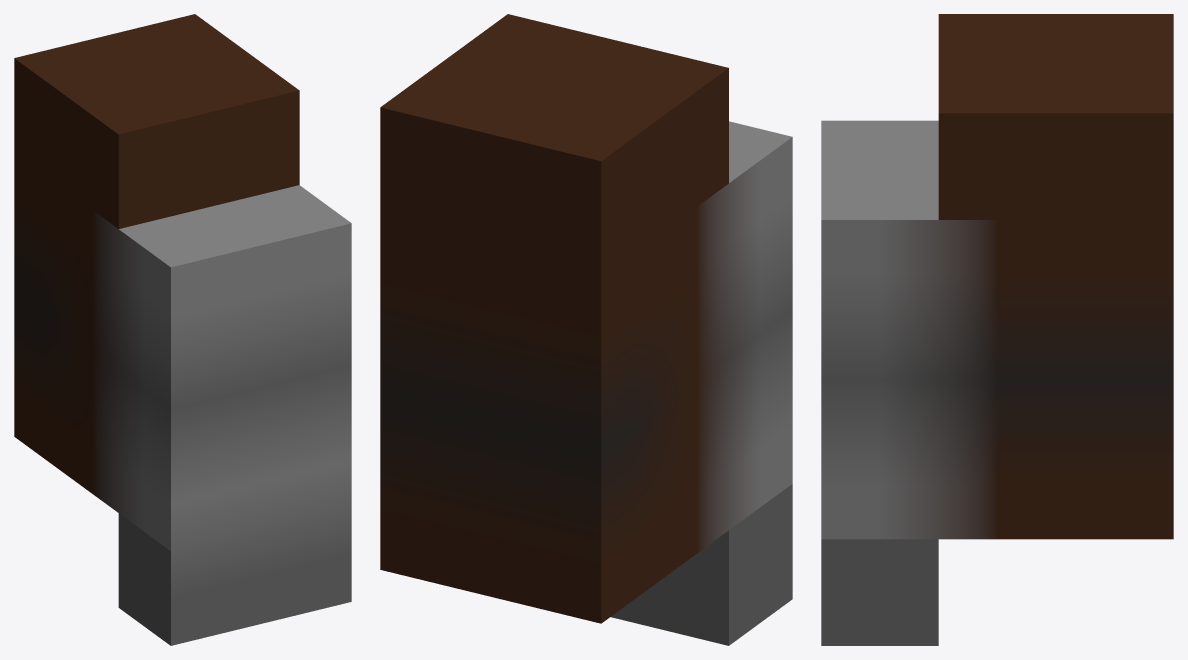
Rendered from patches_legL_2.fbx.
The picture shows the model from 3 angles, left to right: view 1: azimuth 30°, elevation 25°; view 2: azimuth 150°, elevation 25°; view 3: azimuth 270°, elevation 25°; orthographic projection. The views are drawn at different scales.
Parts seen in each view (by area): view 1: patches_legL_2; view 2: patches_legL_2; view 3: patches_legL_2.
Boxes of the visible parts, <box> form: patches_legL_2: <box>14,14,351,645</box>; patches_legL_2: <box>380,14,792,645</box>; patches_legL_2: <box>821,14,1173,645</box>.
Size of the model in its own units: 2 by 5 by 3.
Materials: 1 (1 with a texture image).
